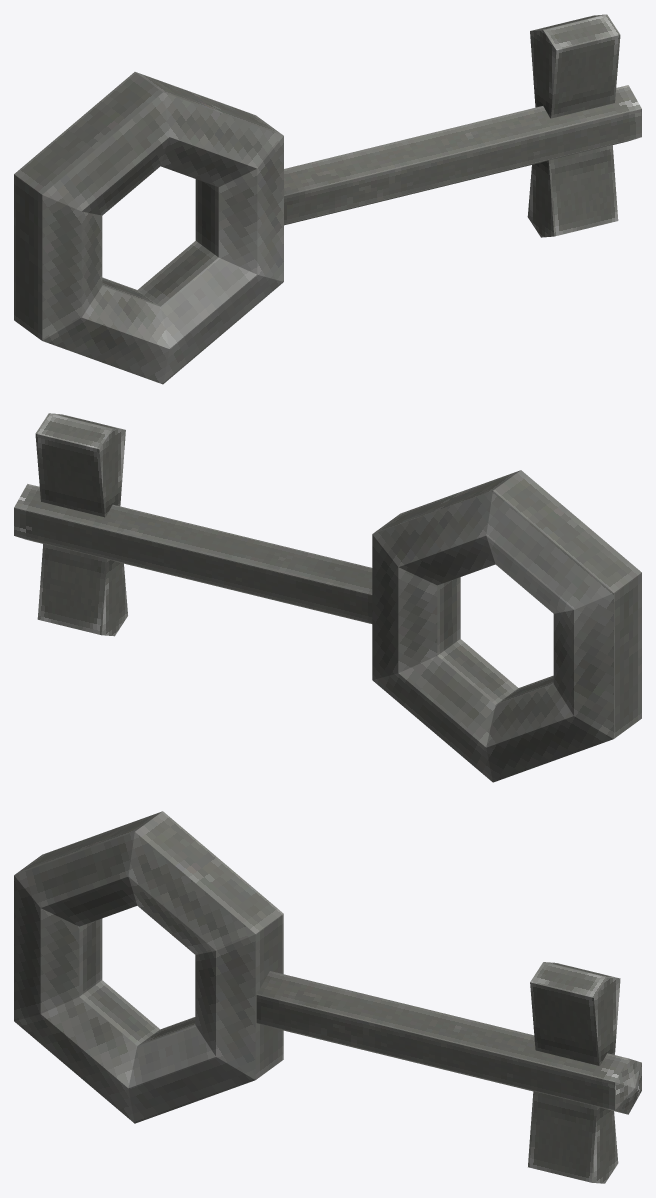
The model's file is key.glb.
3 renders of one model, top to bottom at view 1: azimuth 30°, elevation 25°; view 2: azimuth 150°, elevation 25°; view 3: azimuth 330°, elevation 25°, orthographic.
Parts seen in each view (by area): view 1: key; view 2: key; view 3: key.
Boxes of the visible parts, x1,y1,x2,y2 form: key: (14,14,641,384); key: (14,413,641,782); key: (14,811,641,1183).
Size of the model in its own units: 0.1437 by 0.0661 by 0.017.
Materials: 1 (1 with a texture image).
